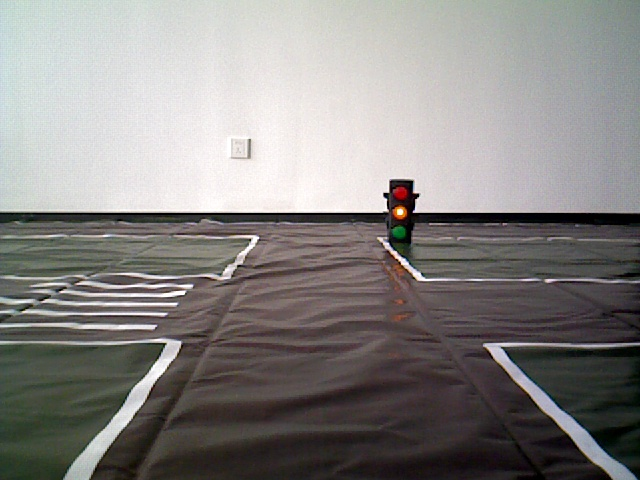yellow: (386, 173, 414, 253)
